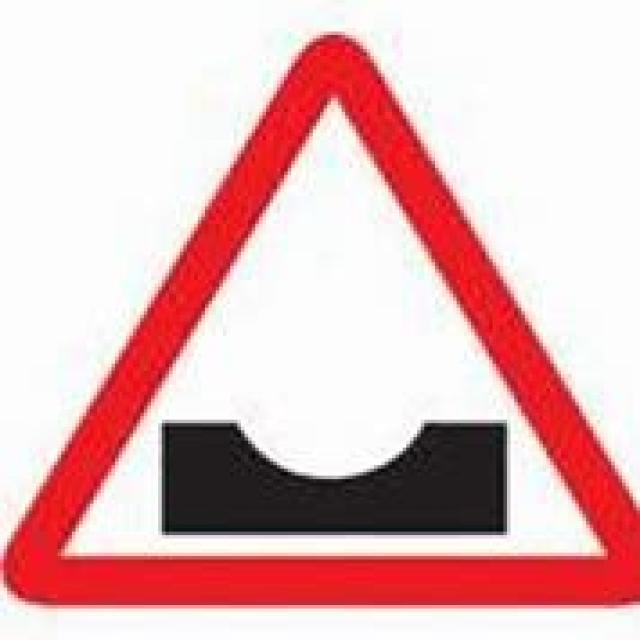dangerous dip: (13, 31, 624, 615)
